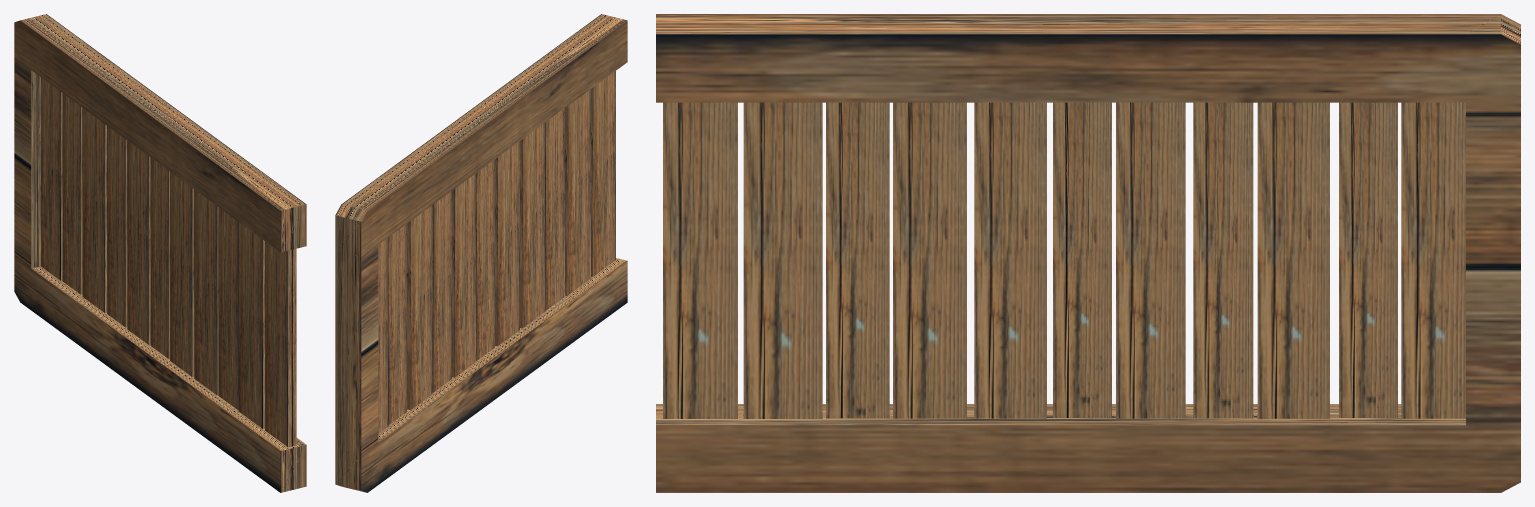
The model's file is puerta.fbx.
3 views of the same model, side by side, from view 1: azimuth 30°, elevation 25°; view 2: azimuth 150°, elevation 25°; view 3: azimuth 270°, elevation 25° (orthographic). The views are drawn at different scales.
Parts seen in each view (by area): view 1: puerta.001; view 2: puerta.001; view 3: puerta.001.
Boxes of the visible parts, left/top/right/bottom form: puerta.001: left=14, top=14, right=306, bottom=492; puerta.001: left=335, top=14, right=627, bottom=492; puerta.001: left=656, top=14, right=1520, bottom=492.
Bounding box in the file's own units: 0.1087 × 1.12 × 1.92.
Materials: 1 (1 with a texture image).
